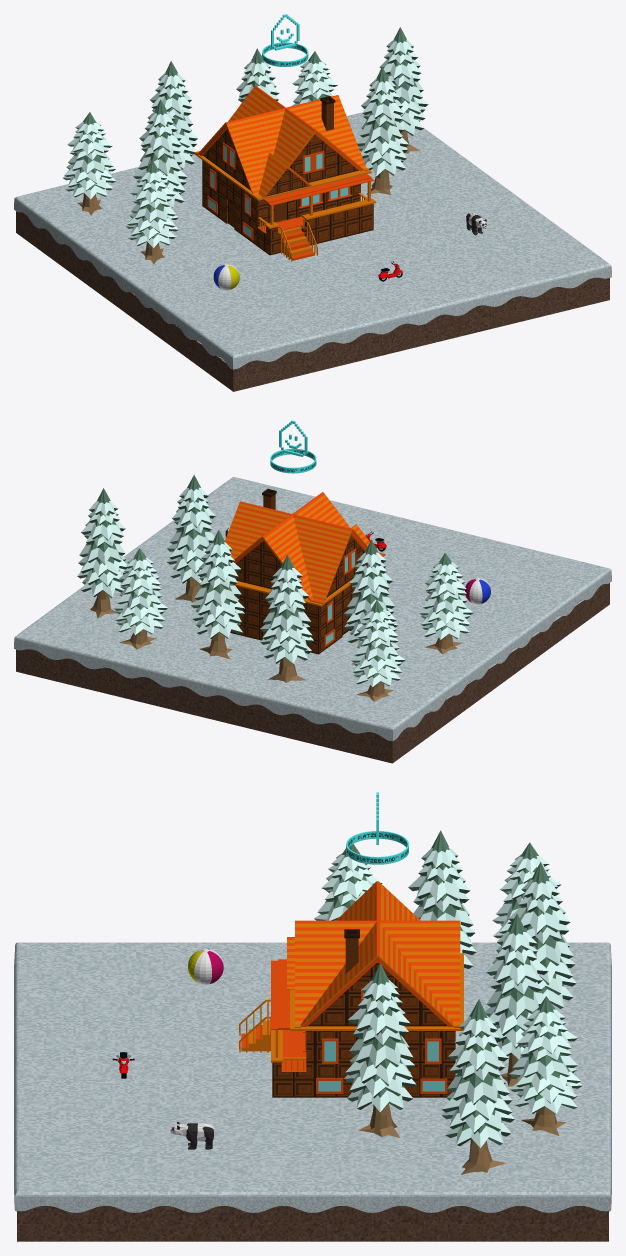
The picture shows the model from 3 angles, top to bottom: view 1: azimuth 30°, elevation 25°; view 2: azimuth 150°, elevation 25°; view 3: azimuth 270°, elevation 25°; orthographic projection. The views are drawn at different scales.
Parts seen in each view (by area): view 1: Cube.003, Cube, TYPE_PREMIUM, OBJRANDOM_BEACHBALL; view 2: Cube.003, Cube, TYPE_PREMIUM, OBJRANDOM_BEACHBALL; view 3: Cube.003, Cube, TYPE_PREMIUM, OBJRANDOM_BEACHBALL, ANIMAL_PANDA.
Boxes of the visible parts, x1,y1,x2,y2 form: Cube.003: (14,27,611,391); Cube: (194,85,376,261); TYPE_PREMIUM: (262,14,308,66); OBJRANDOM_BEACHBALL: (213,263,239,290); Cube.003: (14,475,611,763); Cube: (225,489,388,654); TYPE_PREMIUM: (270,420,316,473); OBJRANDOM_BEACHBALL: (464,578,490,604); Cube.003: (14,830,611,1241); Cube: (239,881,463,1097); TYPE_PREMIUM: (346,792,408,864); OBJRANDOM_BEACHBALL: (188,948,223,984); ANIMAL_PANDA: (170,1122,214,1149).
Bounding box in the file's own units: 4040 × 2483 × 4040.
30 materials, 5 textured.
